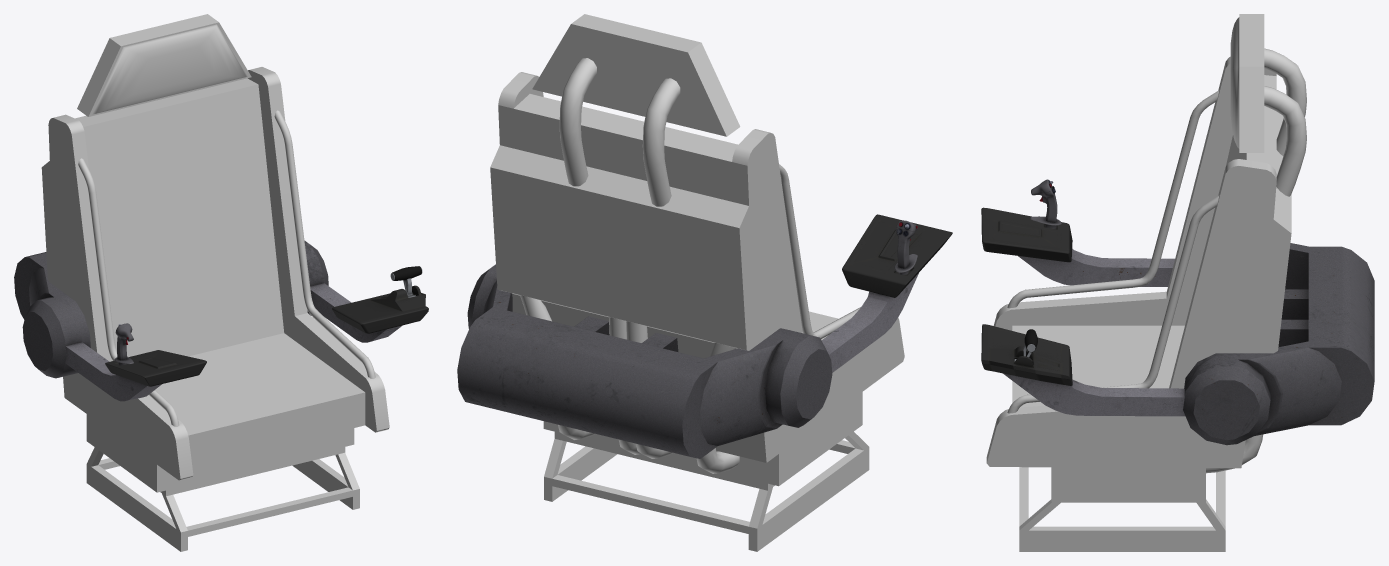
File: Chair with Controls.fbx
The picture shows the model from 3 angles, left to right: view 1: azimuth 30°, elevation 25°; view 2: azimuth 150°, elevation 25°; view 3: azimuth 270°, elevation 25°; orthographic projection. The views are drawn at different scales.
Visible parts, largest first — view 1: Chair, Flight_Stick; view 2: Chair, Flight_Stick; view 3: Chair, Flight_Stick.
Boxes of the visible parts, box(x1,y1,x2,y2) form: Chair: box(14, 14, 428, 551); Flight_Stick: box(114, 323, 133, 365); Chair: box(457, 14, 952, 551); Flight_Stick: box(894, 220, 917, 274); Chair: box(981, 14, 1374, 551); Flight_Stick: box(1030, 179, 1061, 228).
Size of the model in its own units: 103 by 138 by 106.
